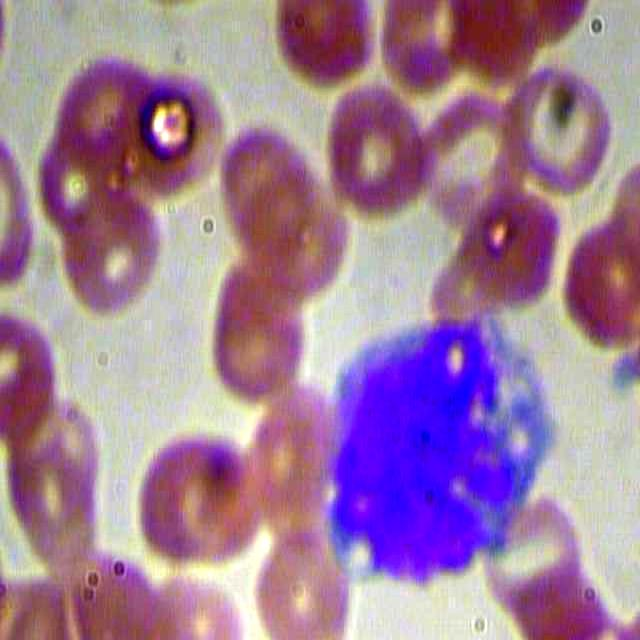RBC: (52, 177, 166, 323), (233, 165, 347, 311), (503, 52, 617, 197), (319, 75, 433, 220), (131, 420, 245, 565), (201, 251, 315, 396), (128, 60, 229, 204), (543, 211, 640, 356), (251, 513, 355, 639), (460, 187, 564, 312)
WBC: (317, 296, 562, 588)
